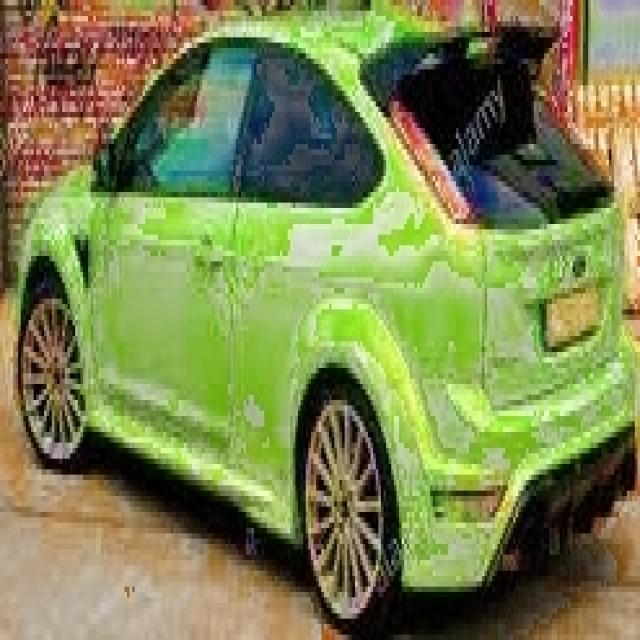green: (15, 10, 637, 640)
